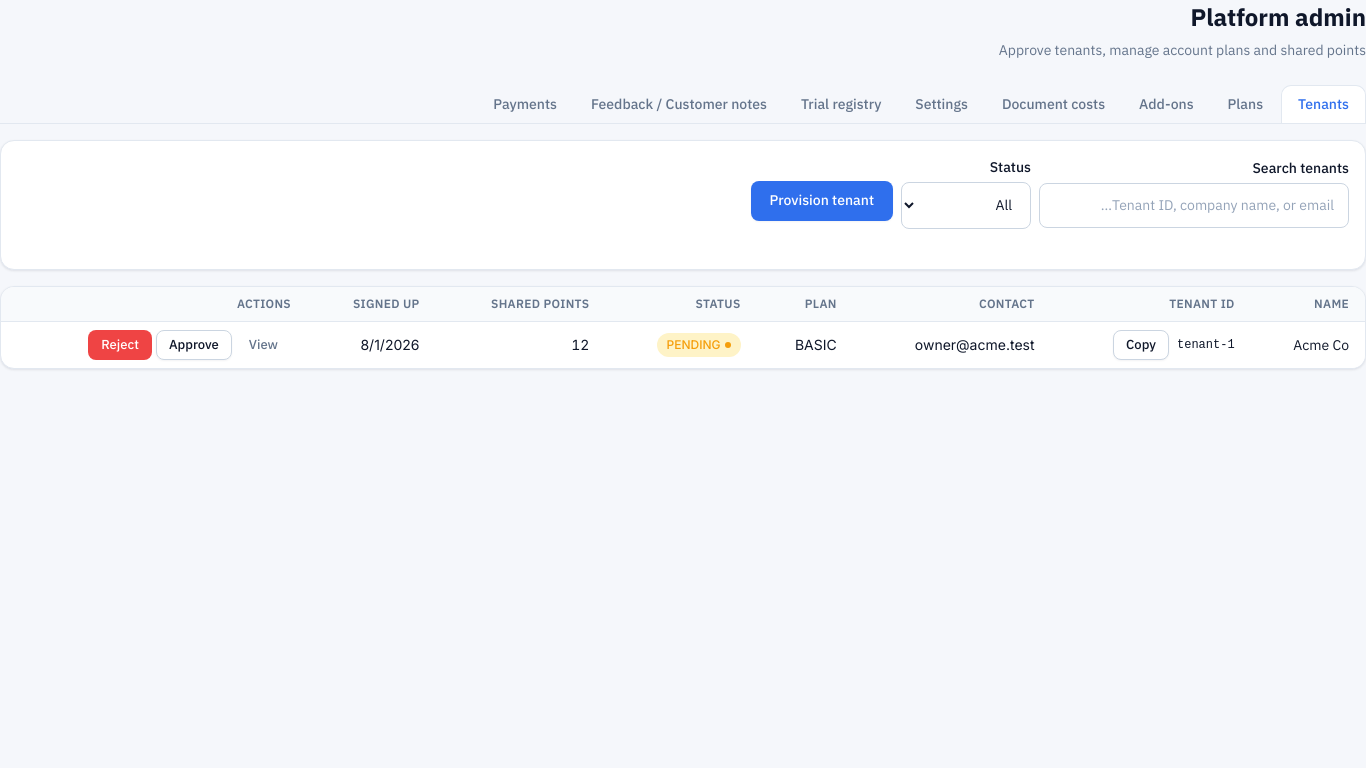
Test: platform admin page › shows labeled branch and device quotas on the plans tab
This screenshot has width=1366, height=768.
Click the tab "Plans": (1245, 104) [1212,85,1279,123]
(page scrolled)
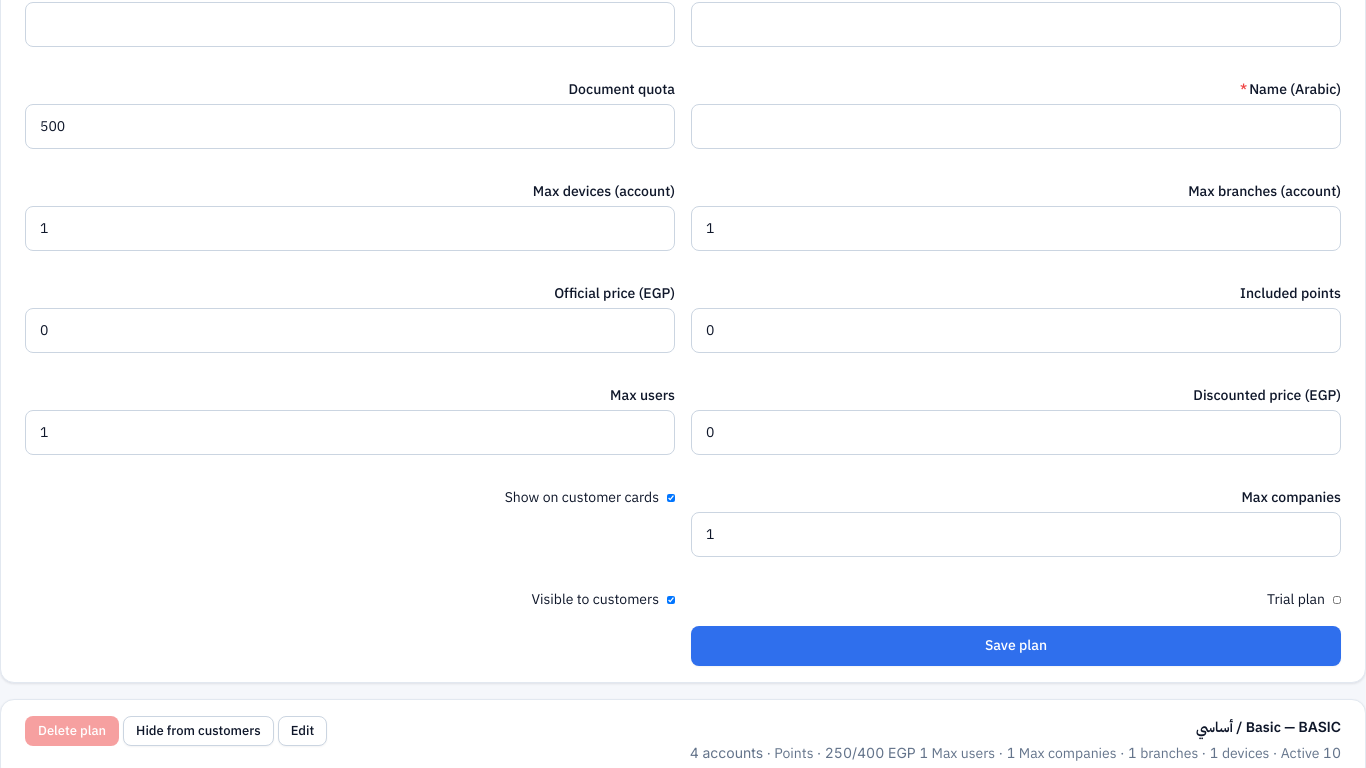
Check: the text "BASIC" is shown, box [1298,718,1341,734]
Check: the number field labelled "Max branches (account)" is shown, box [691,206,1341,251]
Check: the number field labelled "Max devices (account)" is shown, box [25,206,675,251]
